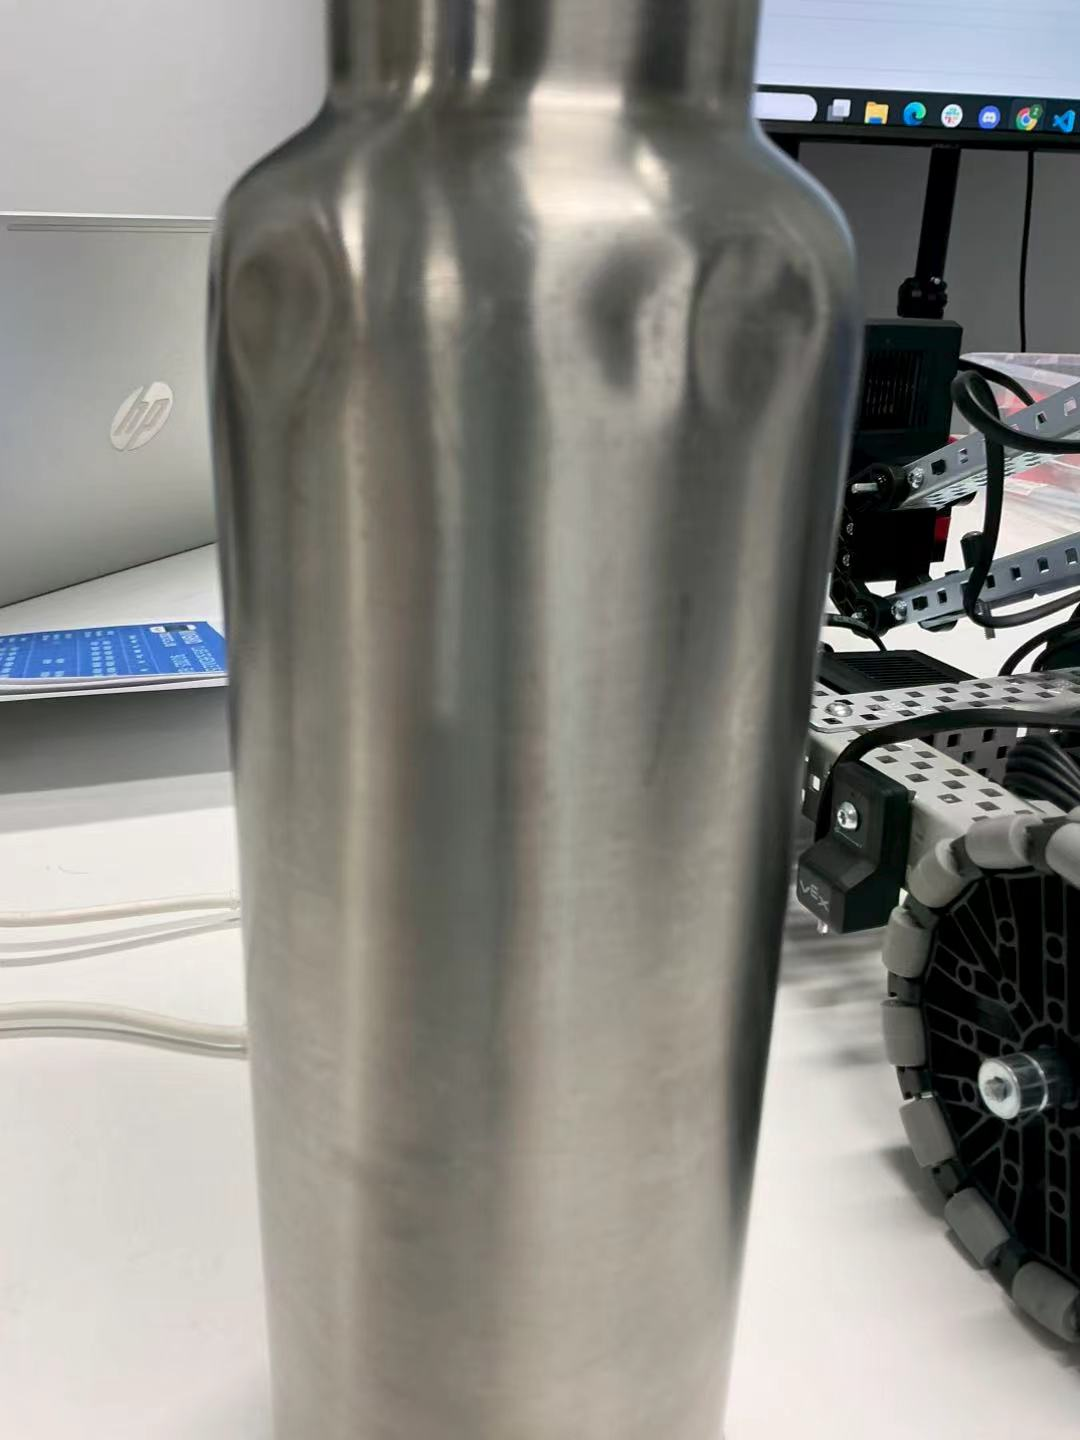Water_Bottle: (146, 6, 871, 1440)
